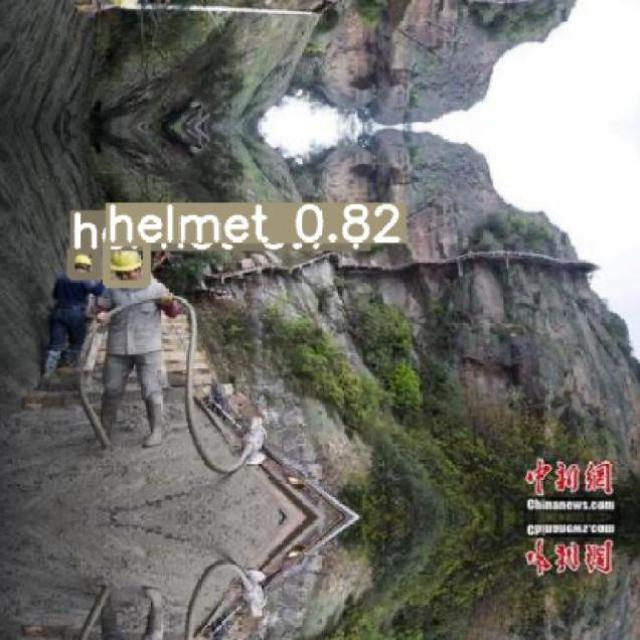yellow helmet: (108, 244, 144, 276), (72, 250, 91, 272)
